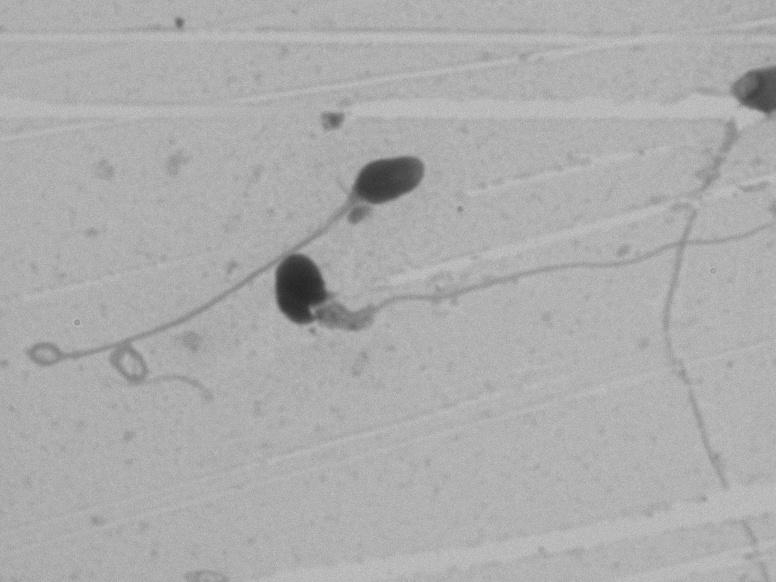Abnormal: (28, 115, 440, 447)
